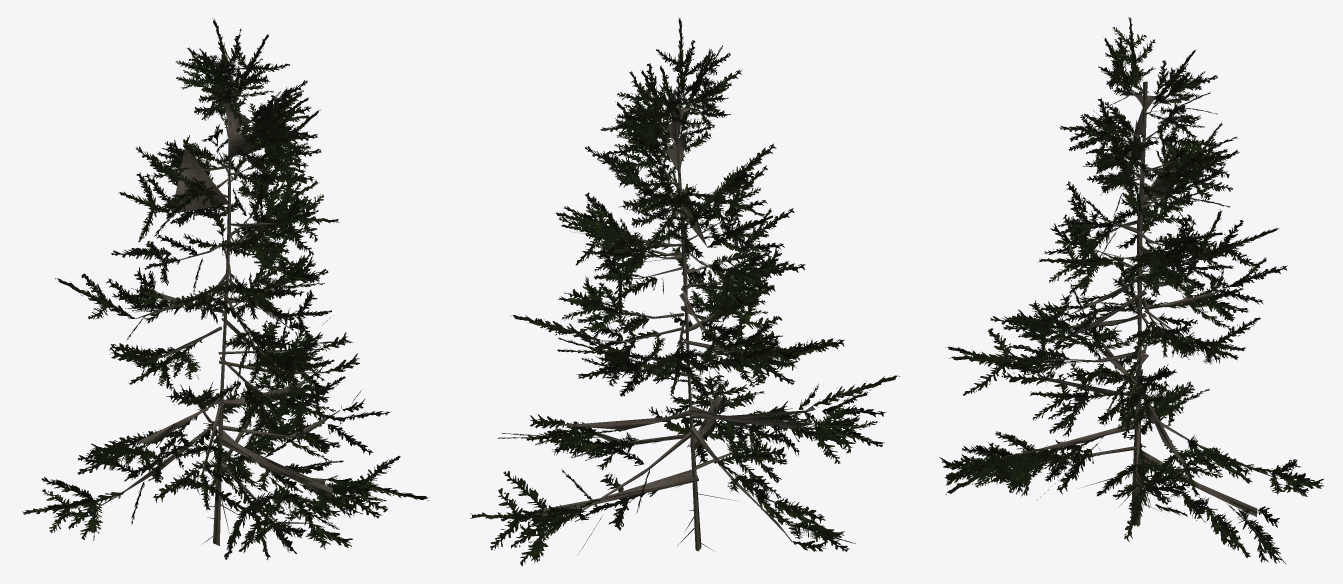
The model's file is fir_sapling_medium_c_LOD1.glb.
The picture shows the model from 3 angles, left to right: view 1: azimuth 30°, elevation 25°; view 2: azimuth 150°, elevation 25°; view 3: azimuth 270°, elevation 25°; orthographic projection.
Visible parts, largest first — view 1: fir_sapling_medium_c_LOD1; view 2: fir_sapling_medium_c_LOD1; view 3: fir_sapling_medium_c_LOD1.
Boxes of the visible parts, left/top/right/bottom form: fir_sapling_medium_c_LOD1: left=22, top=18, right=429, bottom=559; fir_sapling_medium_c_LOD1: left=470, top=17, right=899, bottom=566; fir_sapling_medium_c_LOD1: left=939, top=17, right=1323, bottom=564.
Bounding box in the file's own units: 4.32 × 5.78 × 4.05.
Materials: 3 (3 with a texture image).
